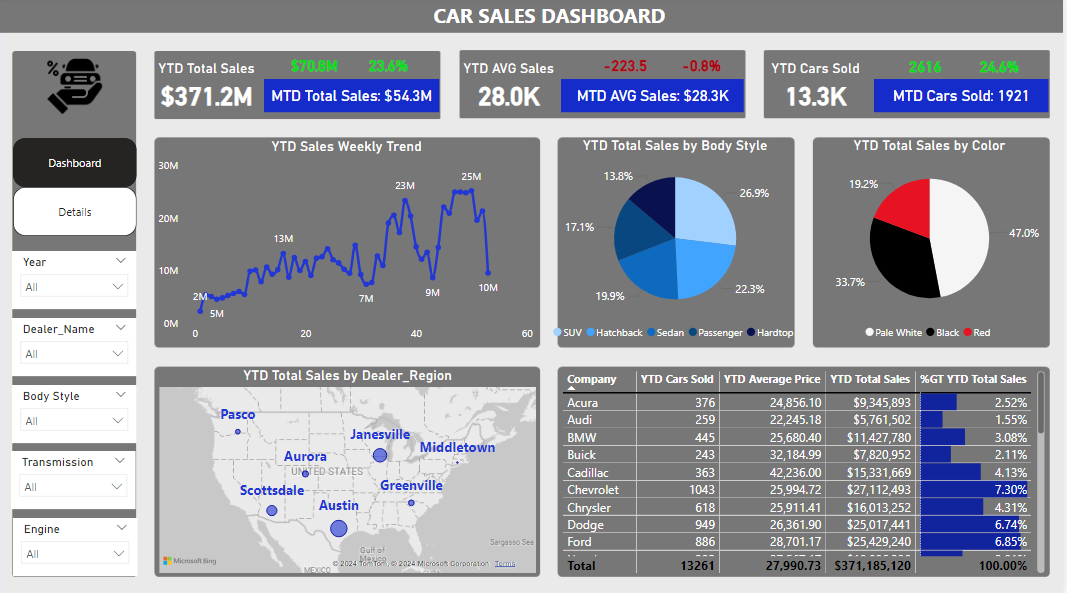

The dashboard page shown, as its layout file describes it:
{"tool":"powerbi","page":{"name":"Dashboard","canvas":[1280,720],"ordinal":0},"visuals":[{"type":"card","title":"YTD Total Sales","fields":{"Values":["car_data.YTD Total Sales"]},"box":[187.2,75.7,126.6,63.3],"z":0},{"type":"card","title":"Sales Diff","fields":{"Values":["car_data.Sales Diff"]},"box":[333.4,66.1,92.2,33],"z":1000},{"type":"card","title":"Sales Diff","fields":{"Values":["car_data.YOY Sales Gross"]},"box":[422.9,66.1,92.2,33],"z":2000},{"type":"card","title":"MTD Total Sales","fields":{"Values":["car_data.MTD KPI"]},"box":[319.3,98.9,210.6,39.9],"z":3000},{"type":"card","title":"YTD AVG Sales","fields":{"Values":["car_data.YTD Average Price"]},"box":[553.3,75.7,119.7,63.3],"z":4000},{"type":"lineChart","title":"YTD Sales Weekly Trend","fields":{"Category":["Calender Table.Week"],"Y":["Sum(car_data.Price ($))"]},"box":[187.2,169.3,463.8,253.2],"z":5000},{"type":"card","title":"Sales Diff","fields":{"Values":["car_data.Avg diff"]},"box":[707.4,66.1,92.2,33],"z":6000},{"type":"card","title":"Sales Diff","fields":{"Values":["car_data.YOY Growth Average Price"]},"box":[799.7,66.1,92.2,33],"z":7000},{"type":"card","title":"MTD Total Sales","fields":{"Values":["car_data.MTD AVG KPI"]},"box":[677.2,98.9,220.5,40.1],"z":8000},{"type":"card","title":"YTD Cars Sold","fields":{"Values":["car_data.YTD Cars Sold"]},"box":[922.1,75.9,121.7,63],"z":9000},{"type":"card","title":"MTD Total Sales","fields":{"Values":["car_data.MTD Count KPI"]},"box":[1053.8,98.9,210.5,40.1],"z":10000},{"type":"card","title":"Sales Diff","fields":{"Values":["car_data.Count Diff"]},"box":[1069.3,67.5,92.2,33],"z":11000},{"type":"card","title":"Sales Diff","fields":{"Values":["car_data.YOY Growth Cars Sold"]},"box":[1158.8,67.5,92.2,33],"z":12000},{"type":"pieChart","fields":{"Y":["car_data.YTD Total Sales"],"Category":["car_data.Body Style"]},"box":[652.9,168.9,323,253],"z":13000},{"type":"pieChart","fields":{"Y":["car_data.YTD Total Sales"],"Category":["car_data.Color"]},"box":[976.5,168.9,287.8,253.4],"z":14000},{"type":"map","fields":{"Size":["car_data.YTD Total Sales"],"Category":["car_data.Dealer_Region"]},"box":[187.6,445.3,463.9,253.4],"z":15000},{"type":"tableEx","fields":{"Values":["car_data.Company","car_data.YTD Cars Sold","car_data.YTD Average Price","car_data.YTD Total Sales","Divide(car_data.YTD Total Sales, ScopedEval(car_data.YTD Total Sales, []))"]},"box":[672.9,445.3,591.3,253],"z":16000},{"type":"textbox","box":[510.6,0,304.2,66.1],"z":17000},{"type":"slicer","fields":{"Values":["car_data.Body Style"]},"box":[15.9,466.7,150,70.2],"z":18000},{"type":"slicer","fields":{"Values":["car_data.Dealer_Name"]},"box":[15.9,386.2,150,70.2],"z":19000},{"type":"slicer","fields":{"Values":["car_data.Transmission"]},"box":[14.5,547.1,150,70.2],"z":20000},{"type":"slicer","fields":{"Values":["car_data.Engine"]},"box":[16.5,627.6,150,70.2],"z":21000},{"type":"pageNavigator","box":[16.5,169.3,149,119.7],"z":22000},{"type":"slicer","fields":{"Values":["Calender Table.Year"]},"box":[15.9,305.7,150,70.2],"z":23000},{"type":"image","box":[15.1,66.1,150,82.6],"z":23001}]}

Visuals, with their boxes in screenshot pixels (x1, y1, x2, y2), scaled from the page's 1280x720 canvas onto the 1067x593 screenshot:
"YTD Total Sales" card: bbox(156, 62, 262, 114)
"Sales Diff" card: bbox(278, 54, 355, 82)
"Sales Diff" card: bbox(353, 54, 429, 82)
"MTD Total Sales" card: bbox(266, 81, 442, 114)
"YTD AVG Sales" card: bbox(461, 62, 561, 114)
"YTD Sales Weekly Trend" lineChart: bbox(156, 139, 543, 348)
"Sales Diff" card: bbox(590, 54, 667, 82)
"Sales Diff" card: bbox(667, 54, 743, 82)
"MTD Total Sales" card: bbox(565, 81, 748, 114)
"YTD Cars Sold" card: bbox(769, 63, 870, 114)
"MTD Total Sales" card: bbox(878, 81, 1054, 114)
"Sales Diff" card: bbox(891, 56, 968, 83)
"Sales Diff" card: bbox(966, 56, 1043, 83)
pieChart - car_data.YTD Total Sales x car_data.Body Style: bbox(544, 139, 814, 347)
pieChart - car_data.YTD Total Sales x car_data.Color: bbox(814, 139, 1054, 348)
map - car_data.YTD Total Sales x car_data.Dealer_Region: bbox(156, 367, 543, 575)
tableEx - car_data.Company x car_data.YTD Cars Sold: bbox(561, 367, 1054, 575)
textbox: bbox(426, 0, 679, 54)
slicer - car_data.Body Style: bbox(13, 384, 138, 442)
slicer - car_data.Dealer_Name: bbox(13, 318, 138, 376)
slicer - car_data.Transmission: bbox(12, 451, 137, 508)
slicer - car_data.Engine: bbox(14, 517, 139, 575)
pageNavigator: bbox(14, 139, 138, 238)
slicer - Calender Table.Year: bbox(13, 252, 138, 310)
image: bbox(13, 54, 138, 122)
